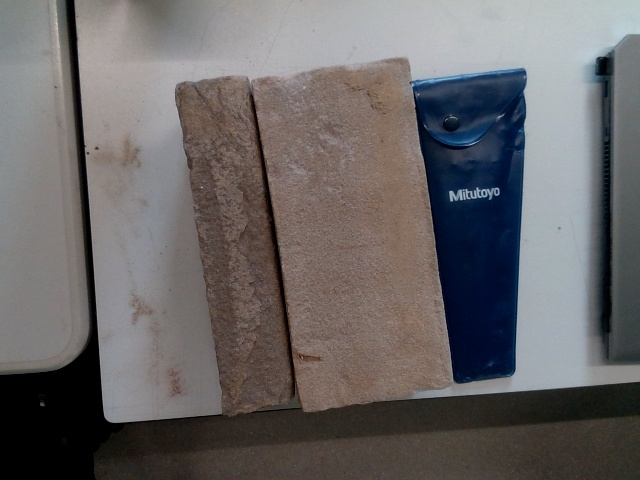brick: (254, 60, 452, 408)
